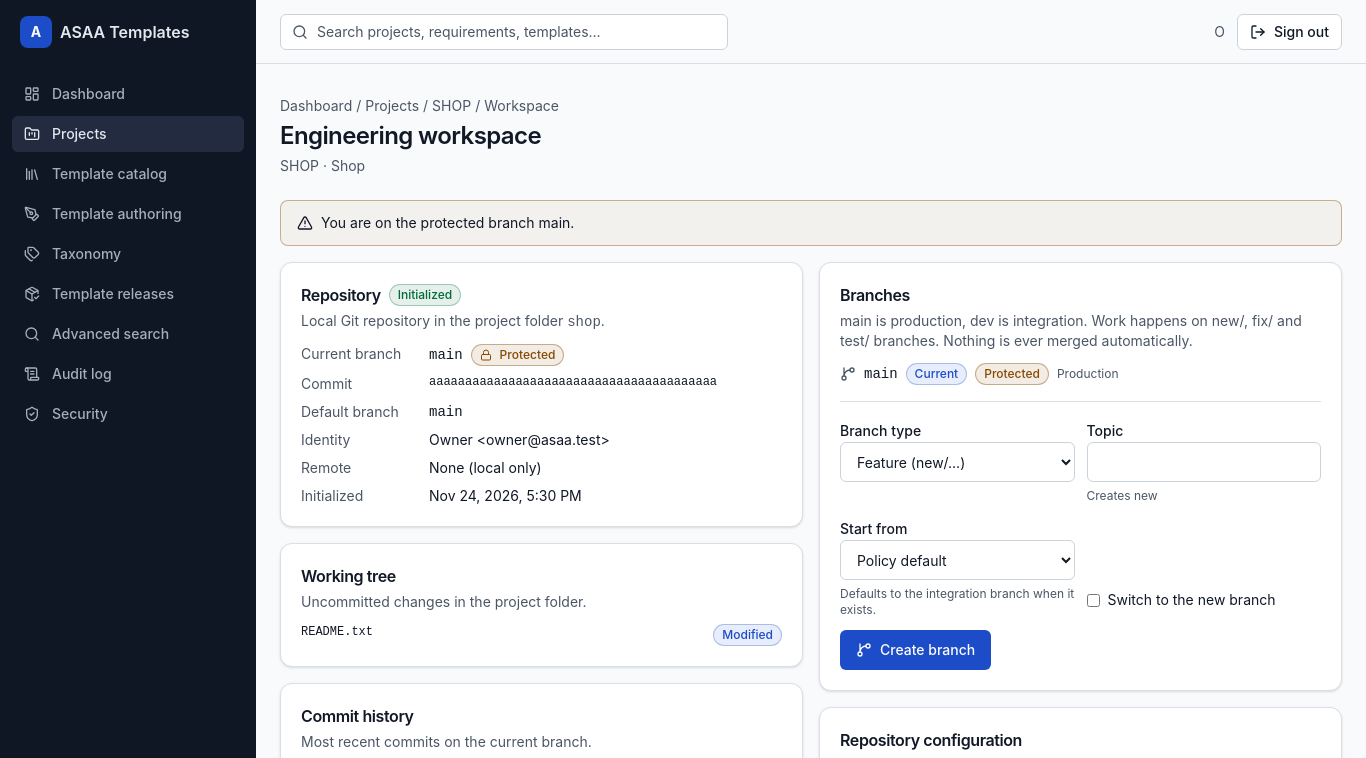
it: engineering workspace page › shows repository state, policy warnings and branch creation results
Expected: the list item "You are on the protected branch main." is shown, [297,214,574,231]
Expected: the text "Modified" is shown, [713,624,782,646]
Select "Fix (fix/…)" in the dropdown labelled "Branch type": (957, 462) [840,442,1074,482]
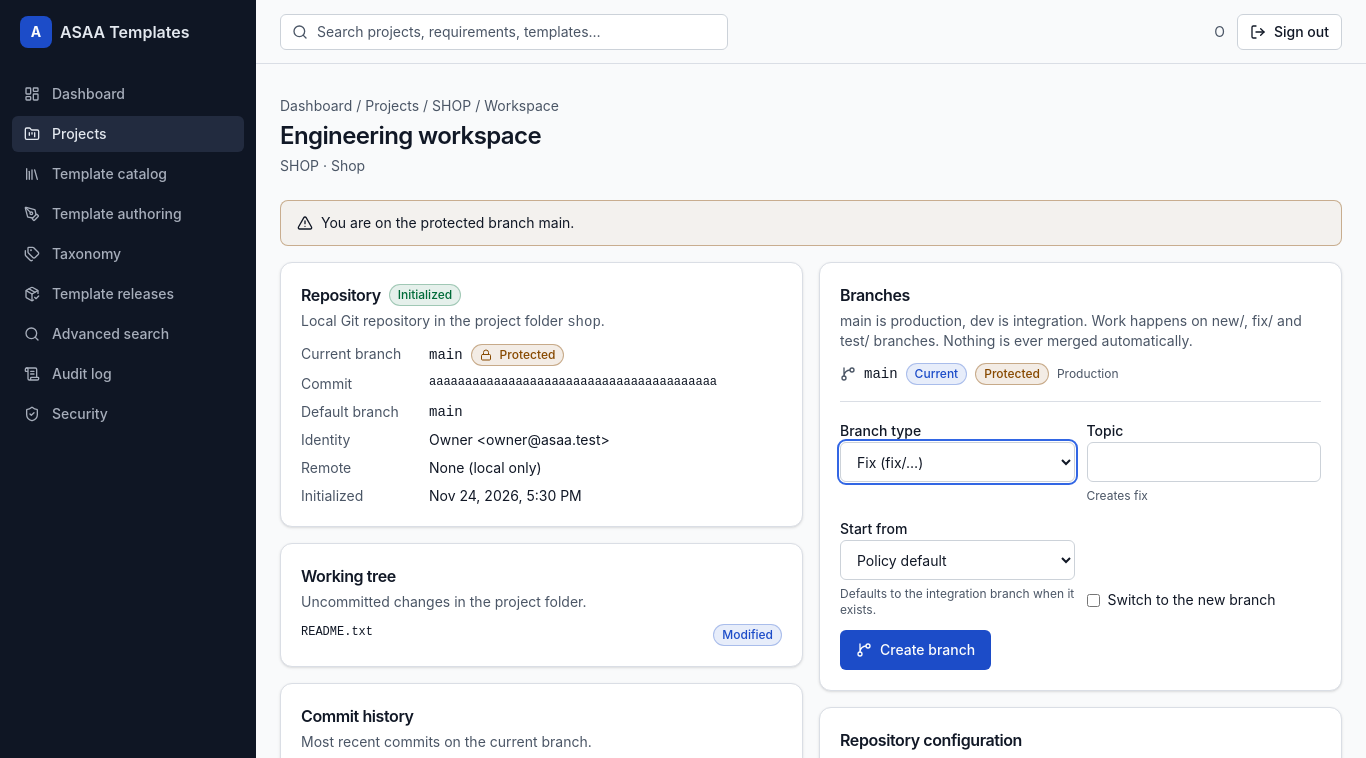
In the field labelled "Topic": (1204, 462) [1086,442,1321,482], type "../escape"
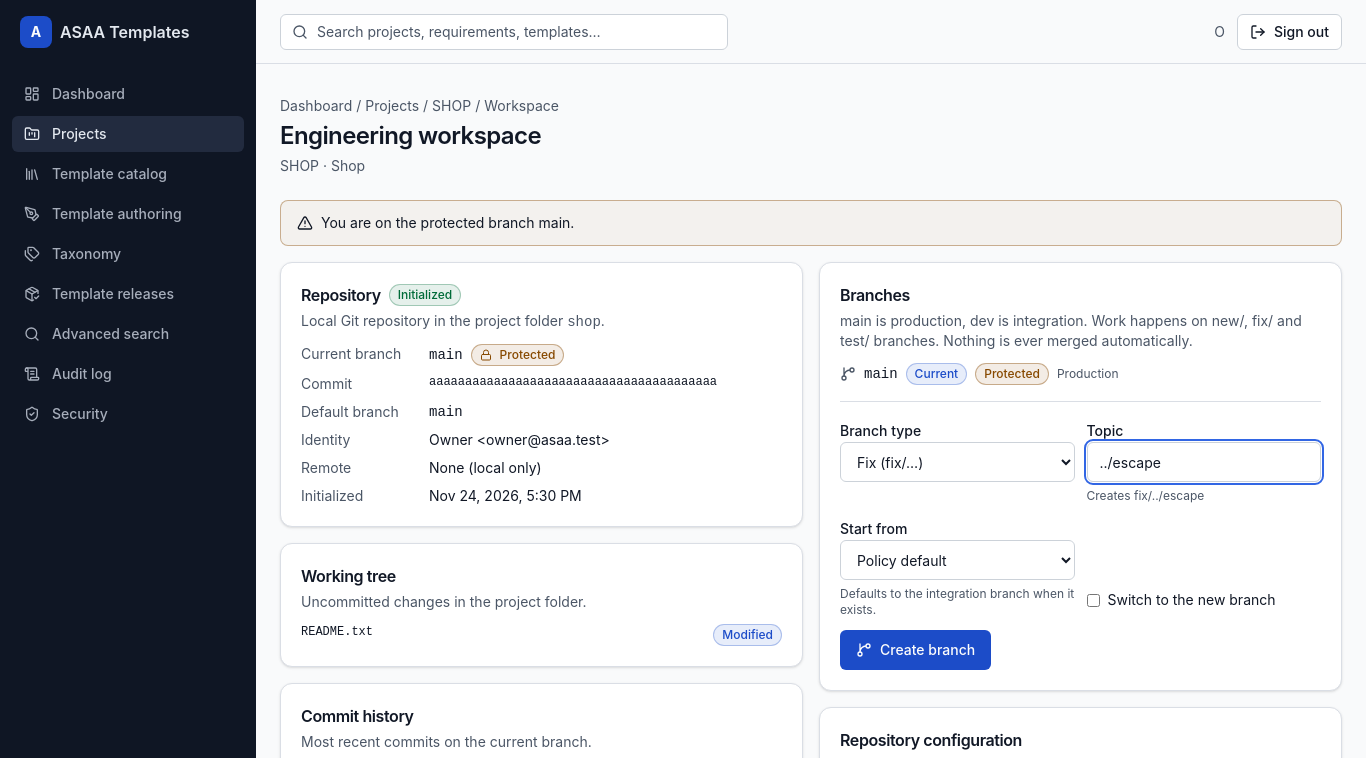
Click the button "Create branch": (916, 650) [840,630,991,670]
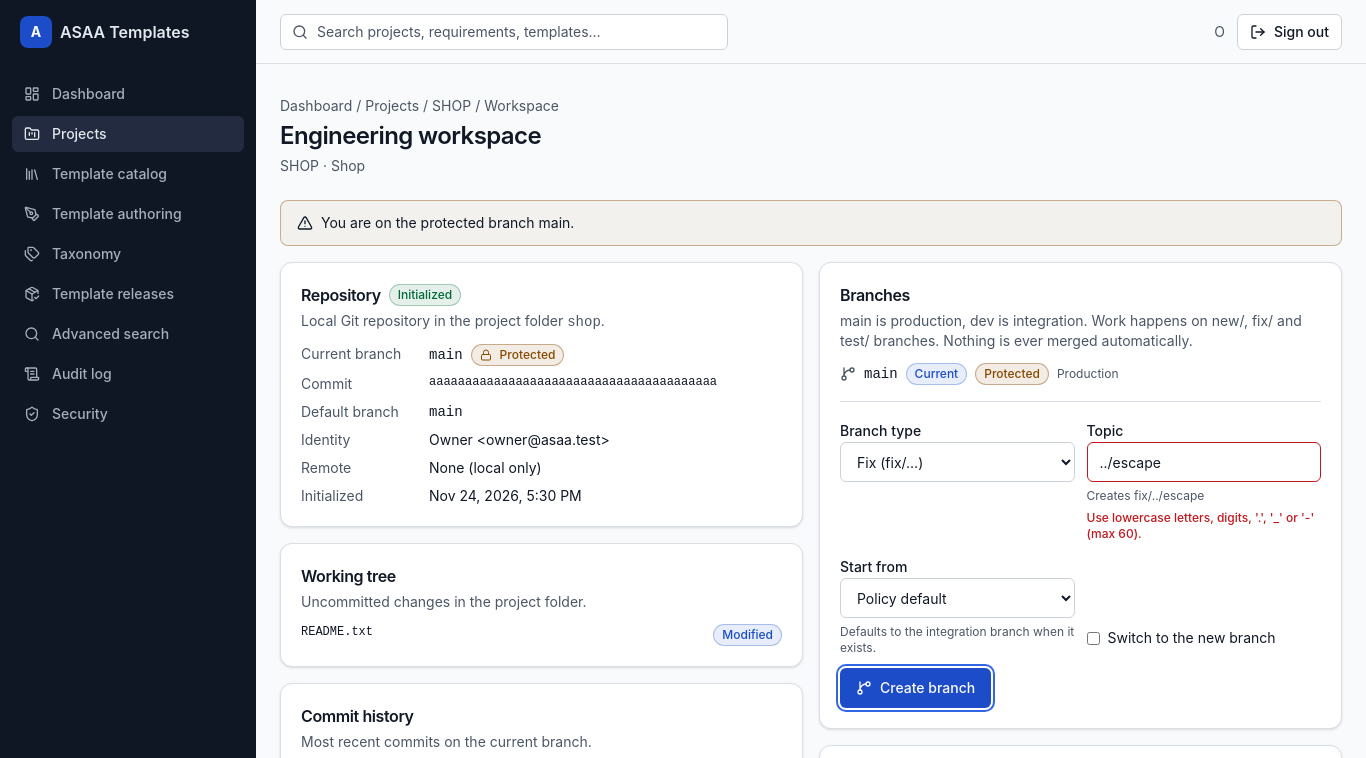
Replace the text in the field labelled "Topic" with "crash": (1204, 462) [1086,442,1321,482]
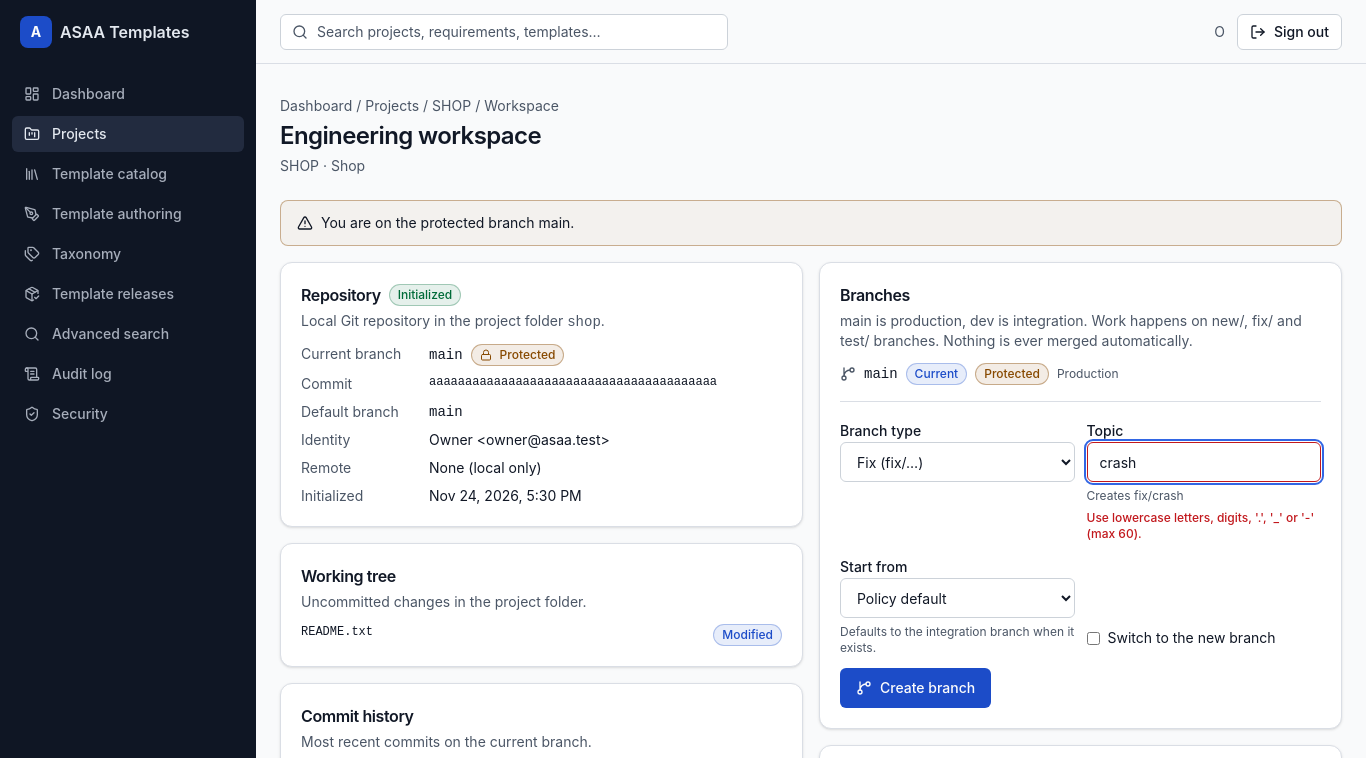
Expected: the text "Creates fix/crash" is shown, [1086,488,1184,503]
Click the button "Create branch": (916, 688) [840,668,991,708]
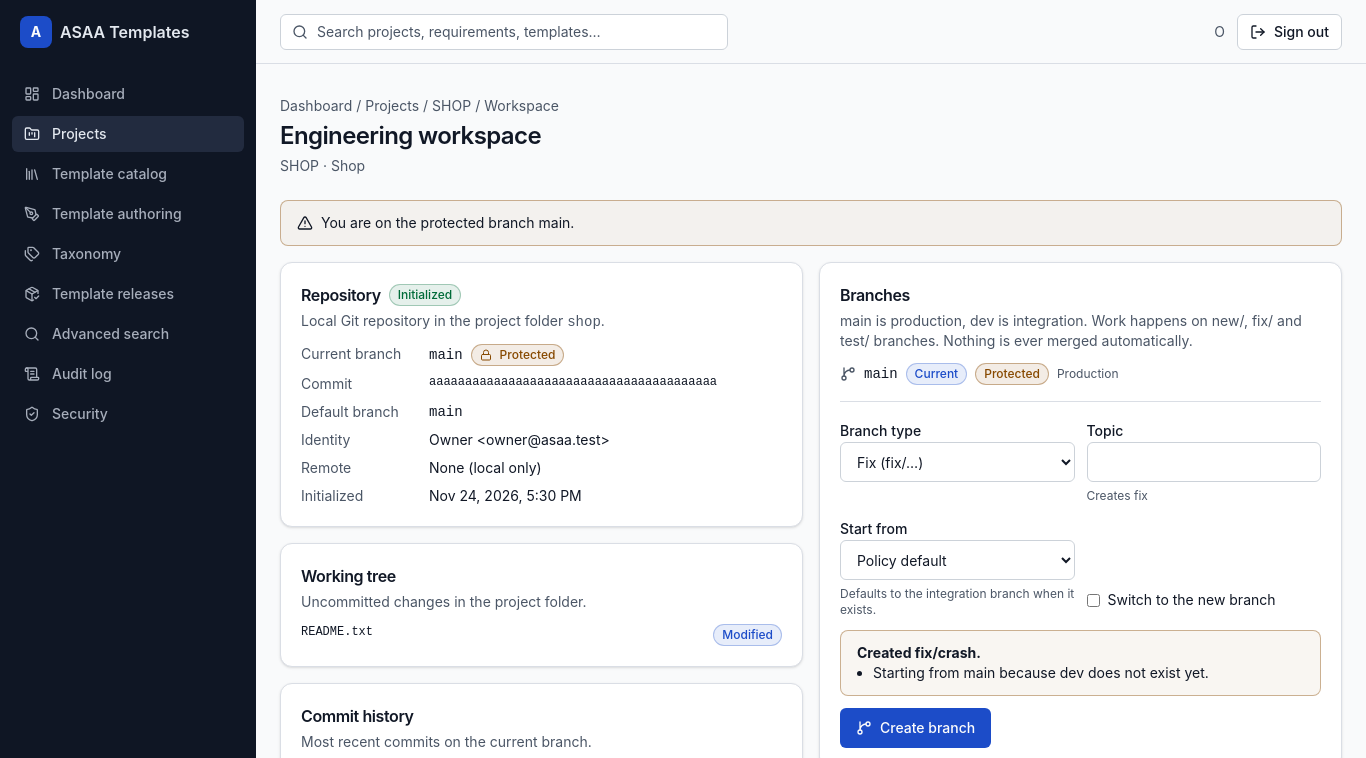
Expected: the text "Created fix/crash." is shown, [857,644,981,661]
Expected: the list item "Starting from main because dev does not exist yet." is shown, [873,664,1209,681]
